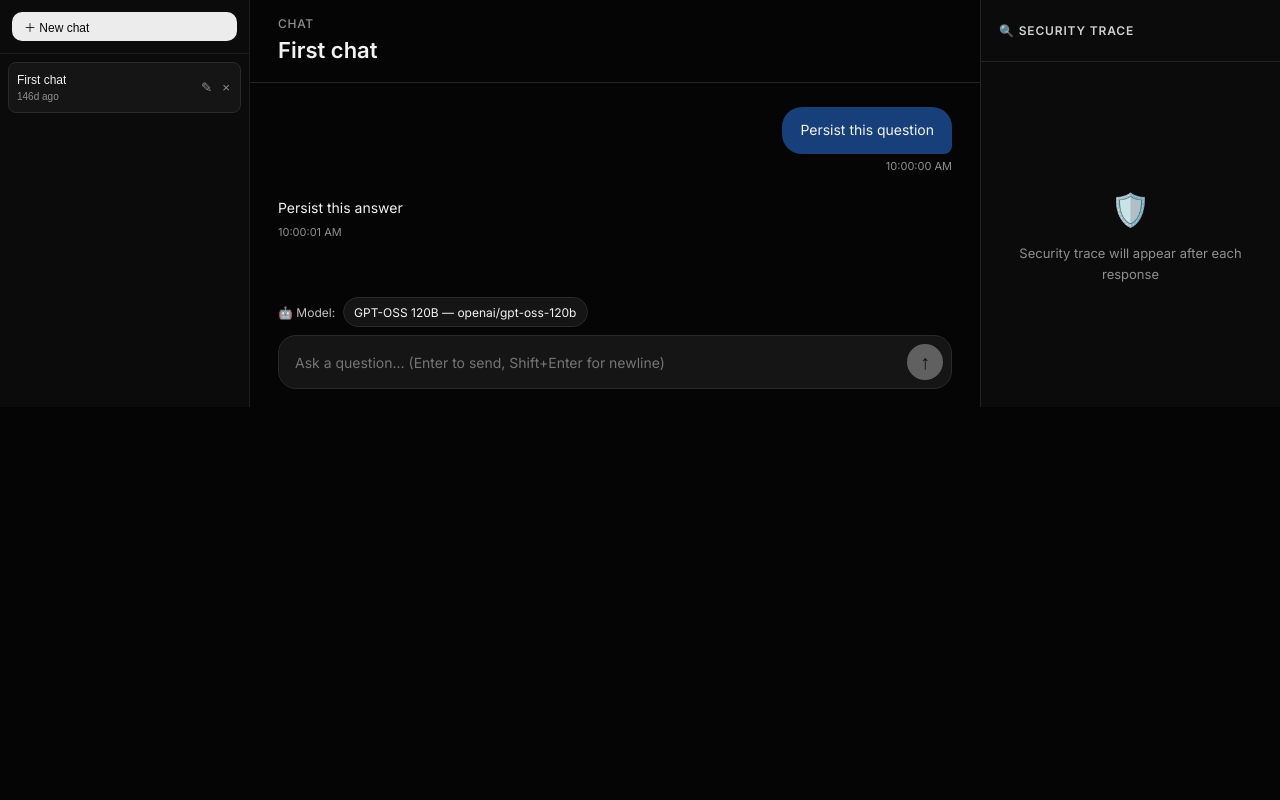
Scenario: persistent conversations › can stop a stalled response, keep its partial text, and continue composing
Expected: the text "Persist this answer" is shown, [278,197,403,220]
Type "New question" into the text box with id "chat-input" at (596, 363), box [295,345,897,380]
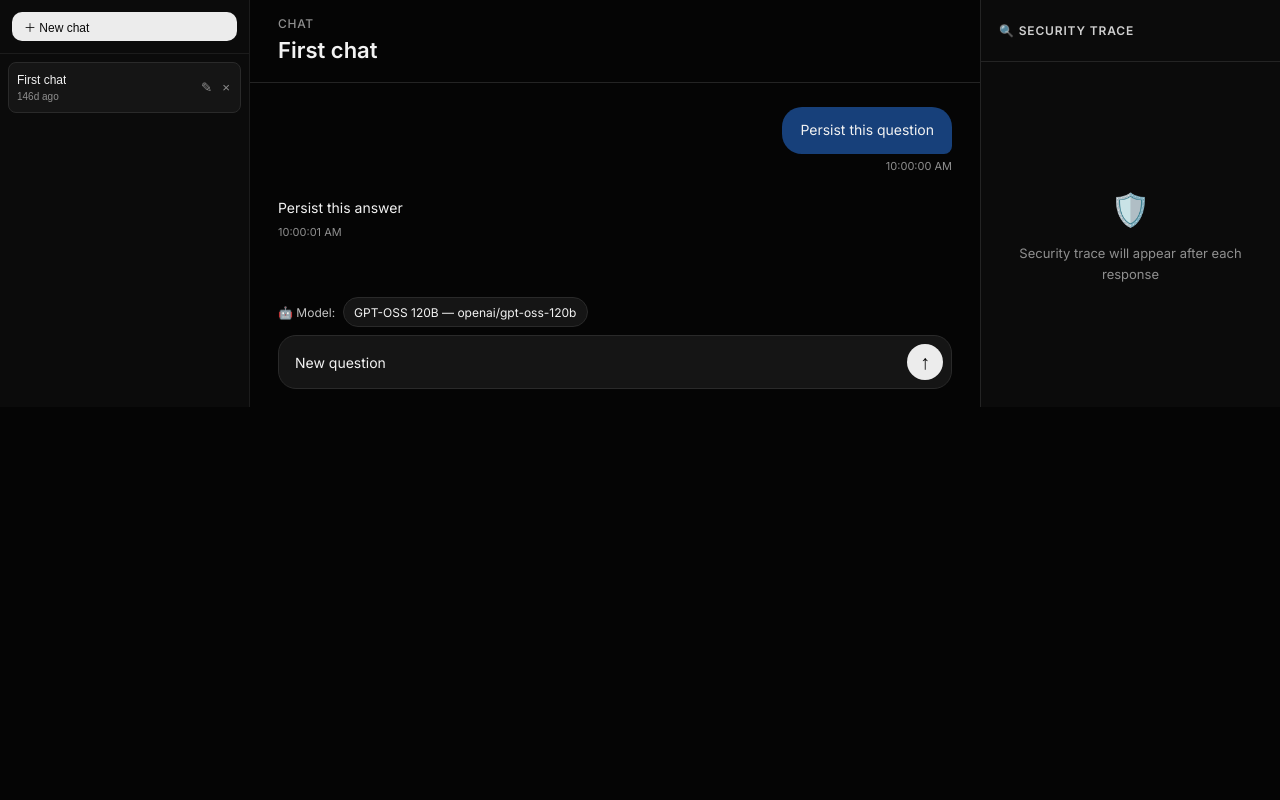
Click the button named "Send" at (925, 362), box [907,344,943,380]
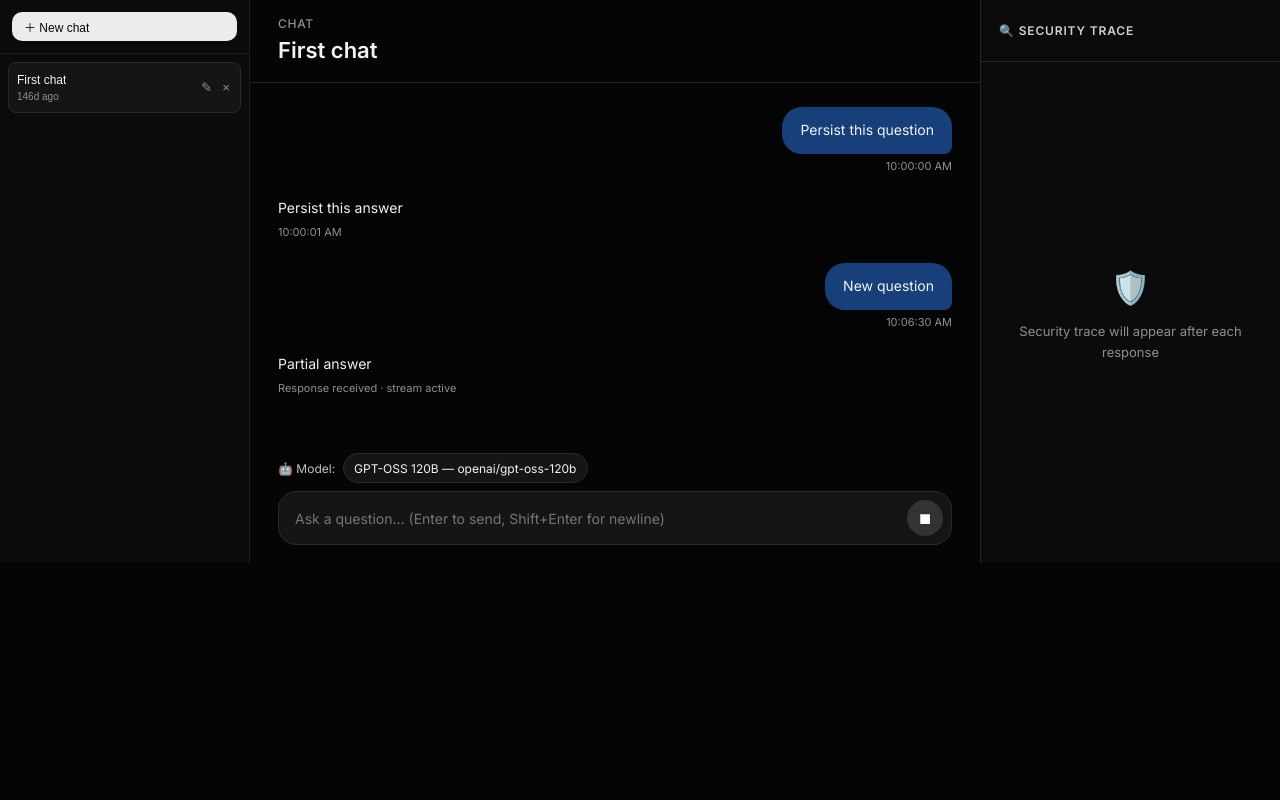
Now the text "Partial answer" is shown, box [278,355,372,372]
Now the button named "Stop generating" is shown, box [907,500,943,536]
Now the text "Response received · stream active" is shown, box [278,380,456,397]
Type "Another question" into the text box with id "chat-input" at (596, 519), box [295,501,897,536]
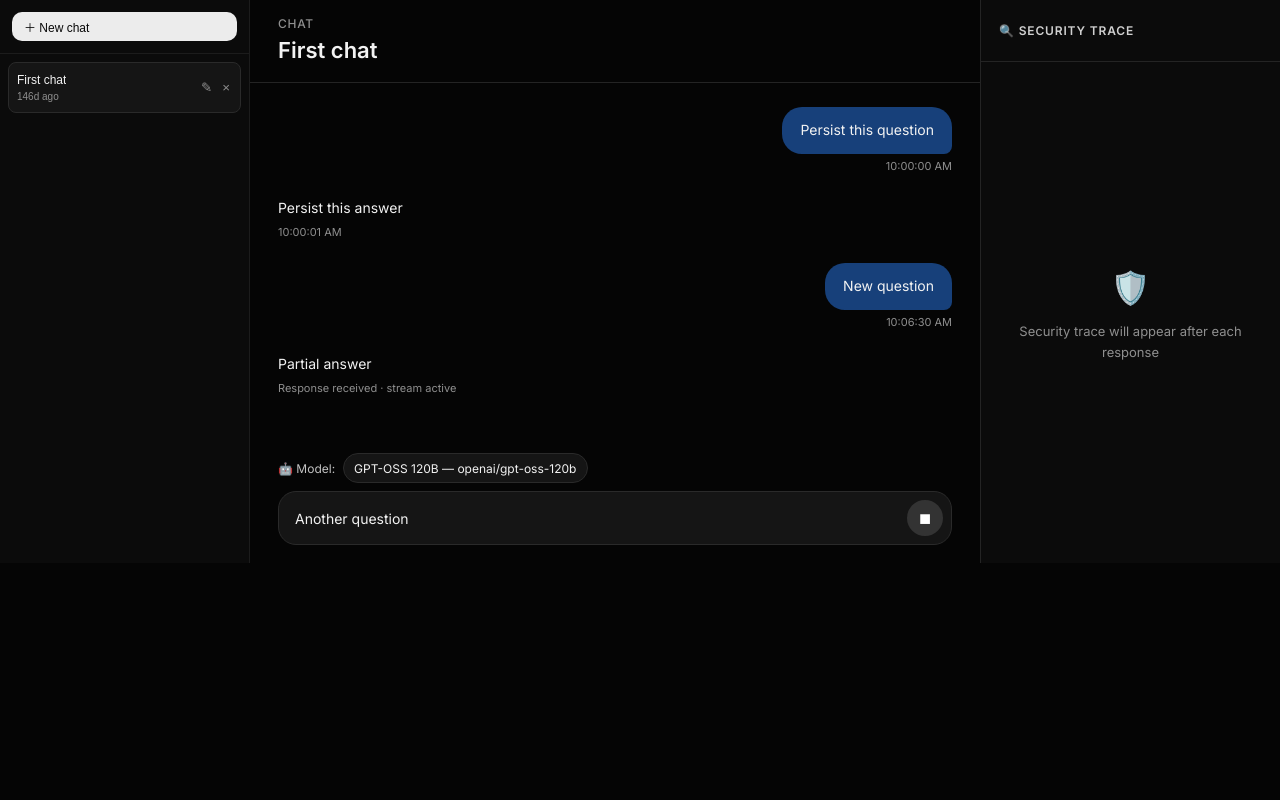
Click the button named "Stop generating" at (925, 518), box [907,500,943,536]
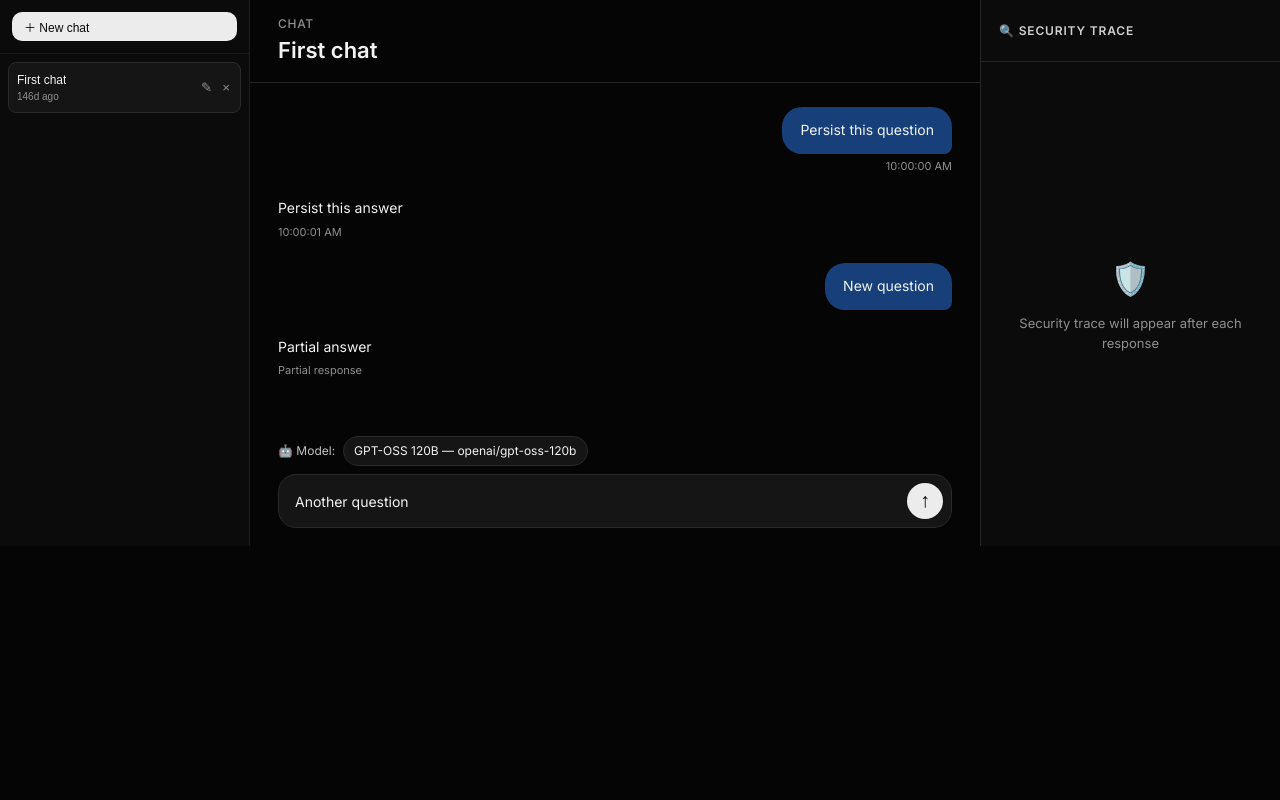
Now the text "Partial response" is shown, box [278,362,372,380]
